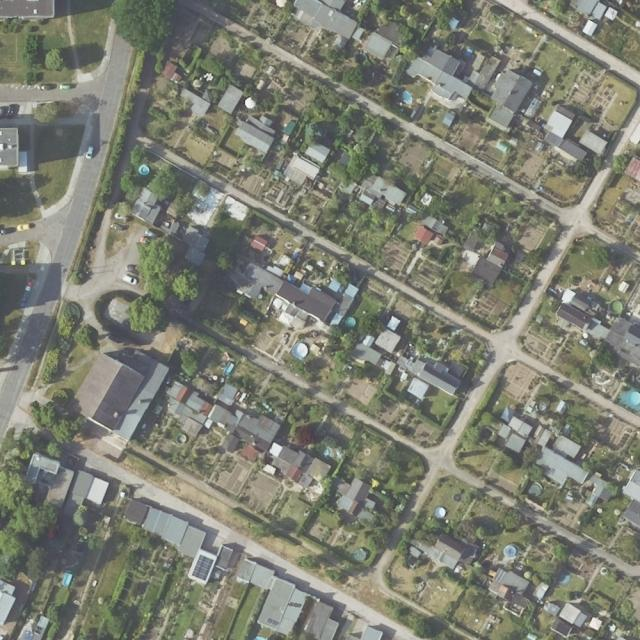PV: (190, 554, 214, 580)
ST: (267, 617, 279, 626)
